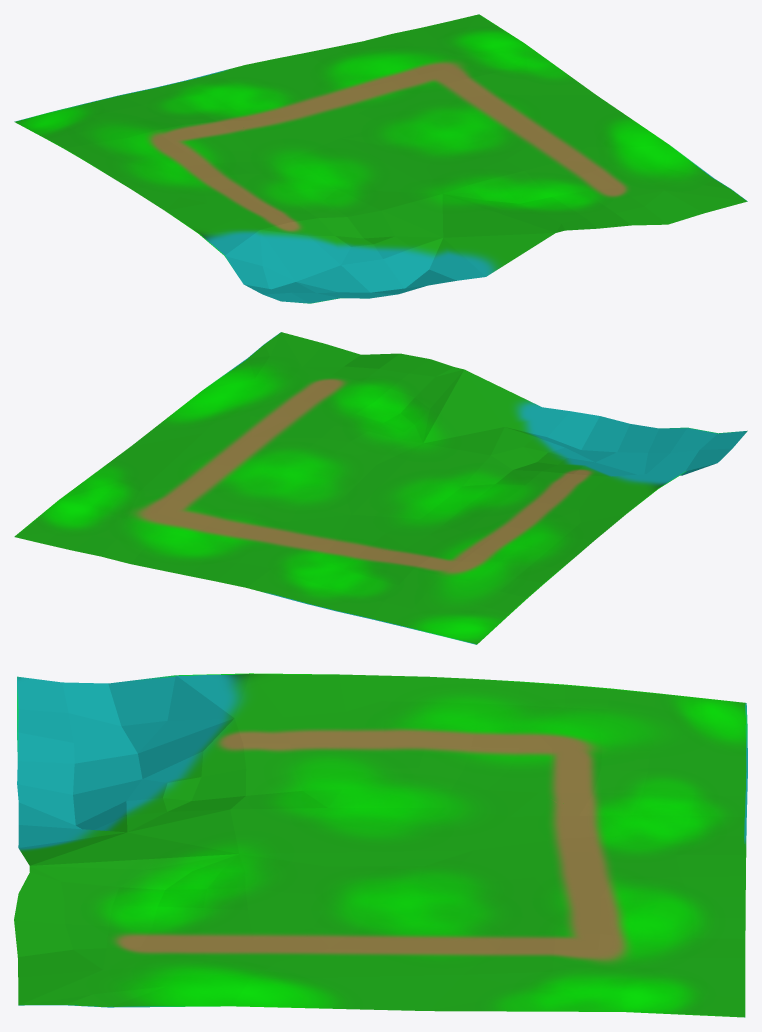
The model's file is River Terain Low Poly New.glb.
3 renders of one model, top to bottom at view 1: azimuth 30°, elevation 25°; view 2: azimuth 150°, elevation 25°; view 3: azimuth 270°, elevation 25°, orthographic. The views are drawn at different scales.
Parts seen in each view (by area): view 1: Plane; view 2: Plane; view 3: Plane.
Boxes of the visible parts, x1,y1,x2,y2 form: Plane: (14, 14, 747, 303); Plane: (14, 332, 747, 644); Plane: (14, 673, 747, 1017).
Size of the model in its own units: 30.42 by 2.65 by 30.29.
Materials: 1 (1 with a texture image).
